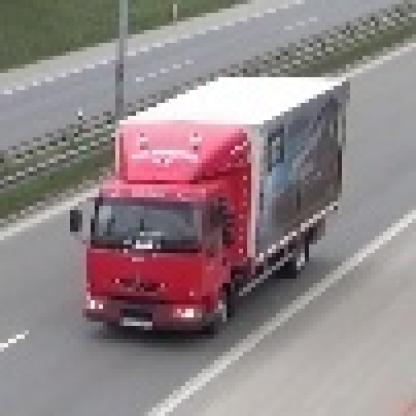truck: (71, 70, 347, 336)
